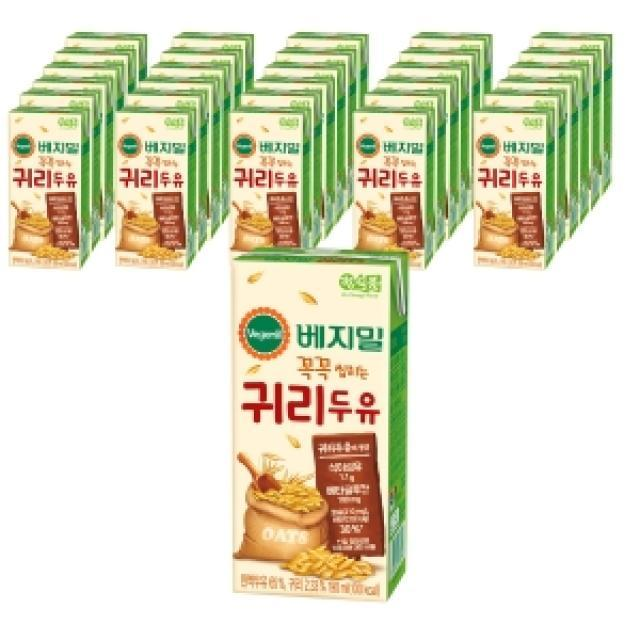Tetra: (226, 242, 422, 608), (219, 94, 323, 288), (467, 90, 566, 286), (343, 95, 435, 299), (2, 100, 95, 283), (110, 97, 201, 276)
